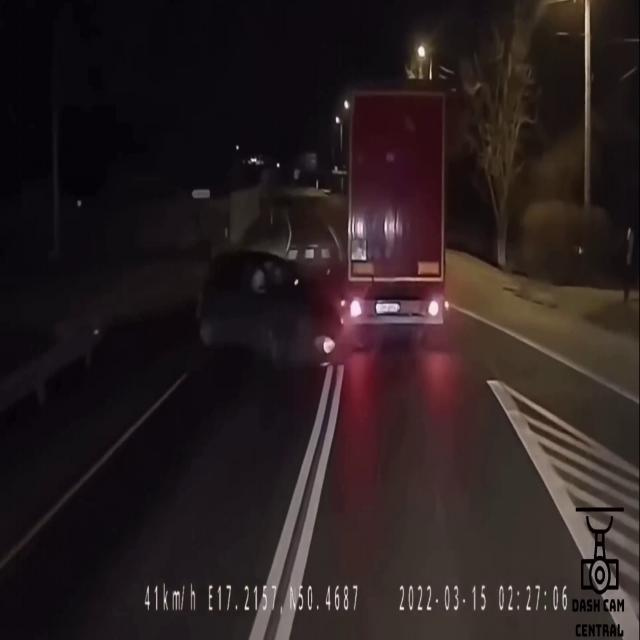accident: (189, 154, 448, 370)
